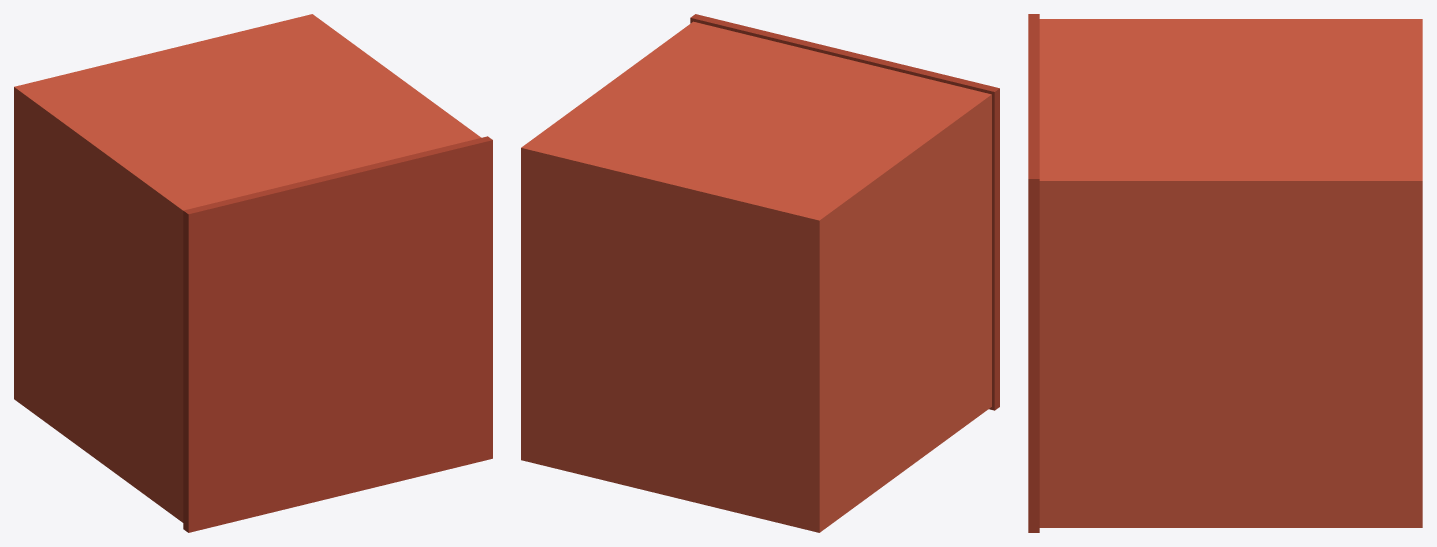
Rendered from vertical-pipe-box.glb.
3 views of the same model, side by side, from view 1: azimuth 30°, elevation 25°; view 2: azimuth 150°, elevation 25°; view 3: azimuth 270°, elevation 25° (orthographic). The views are drawn at different scales.
Visible parts, largest first — view 1: vertical-pipe-box; view 2: vertical-pipe-box; view 3: vertical-pipe-box.
Boxes of the visible parts, box(x1,y1,x2,y2) form: vertical-pipe-box: box(14, 14, 492, 532); vertical-pipe-box: box(521, 14, 999, 532); vertical-pipe-box: box(1028, 14, 1422, 532).
Bounding box in the file's own units: 1.02 × 1.02 × 1.03.
